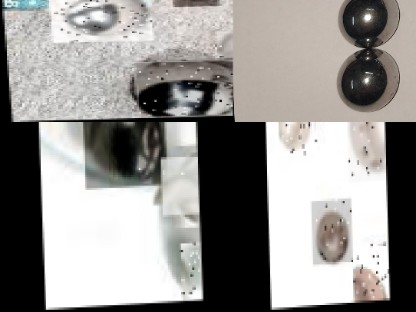ironball: (132, 59, 232, 117), (81, 121, 164, 190), (161, 158, 198, 278), (47, 0, 150, 43), (331, 48, 402, 110), (336, 0, 404, 46), (308, 201, 349, 267), (345, 121, 386, 184), (350, 245, 388, 304), (177, 244, 201, 303), (277, 121, 315, 157), (212, 32, 232, 69), (170, 0, 217, 8)
